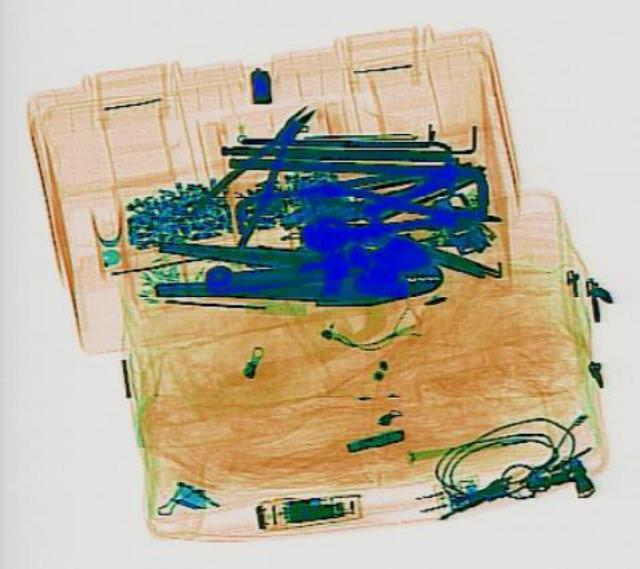Pliers: (180, 88, 336, 249), (150, 237, 444, 310), (294, 184, 500, 245)
